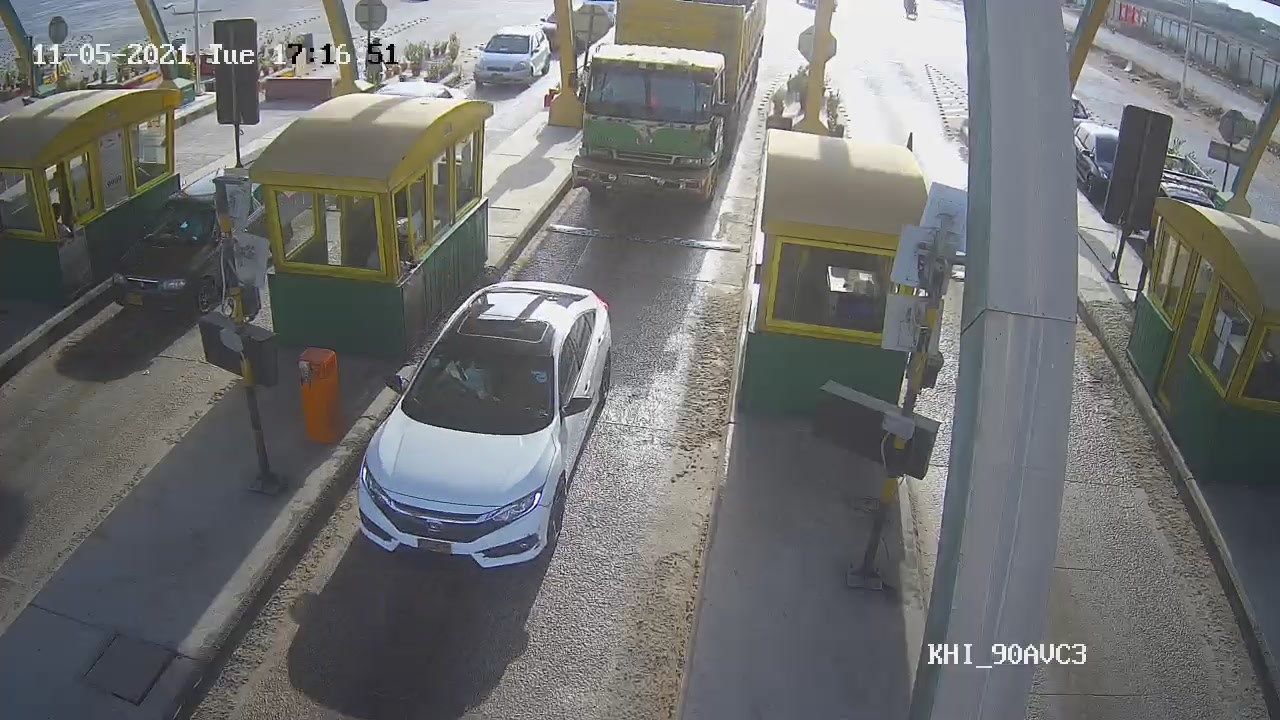F6: (572, 1, 768, 224)
